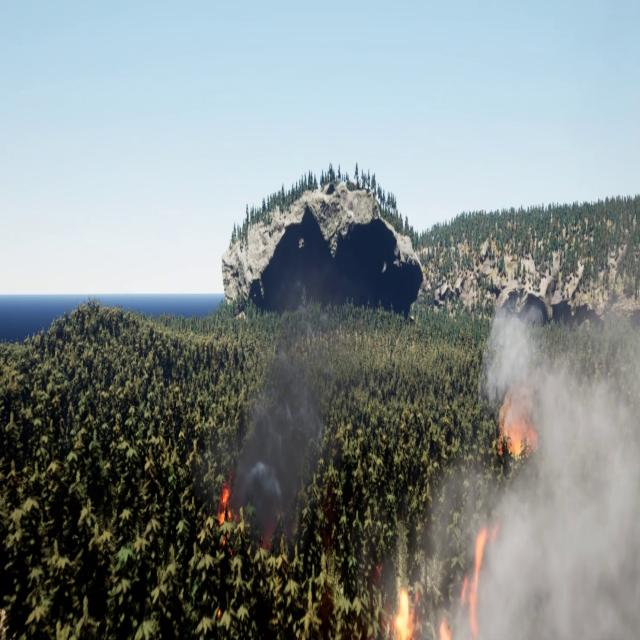fire: (459, 517, 502, 639), (386, 579, 456, 639), (503, 404, 537, 469), (211, 488, 240, 548)
smoke: (386, 303, 640, 639), (226, 302, 324, 532)
